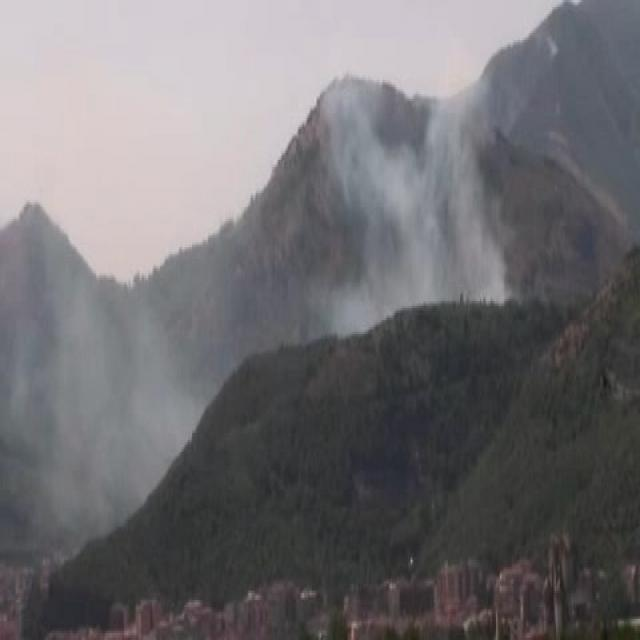smoke: (309, 85, 489, 316), (16, 270, 181, 503)
